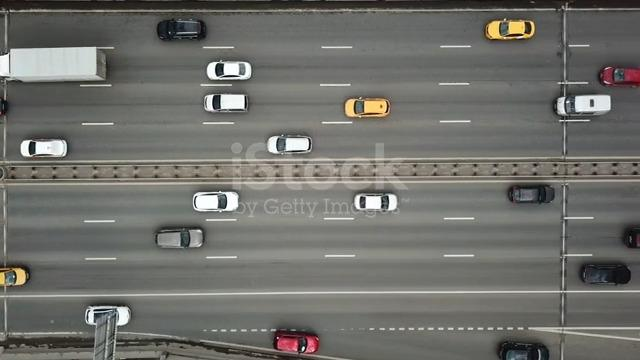Cars: (553, 94, 612, 118), (485, 18, 536, 41), (580, 263, 631, 286), (274, 329, 320, 354), (157, 18, 207, 41), (345, 97, 391, 119), (499, 341, 550, 360), (206, 60, 252, 81), (267, 134, 313, 155), (599, 66, 640, 88), (204, 94, 249, 114), (354, 193, 398, 213)
